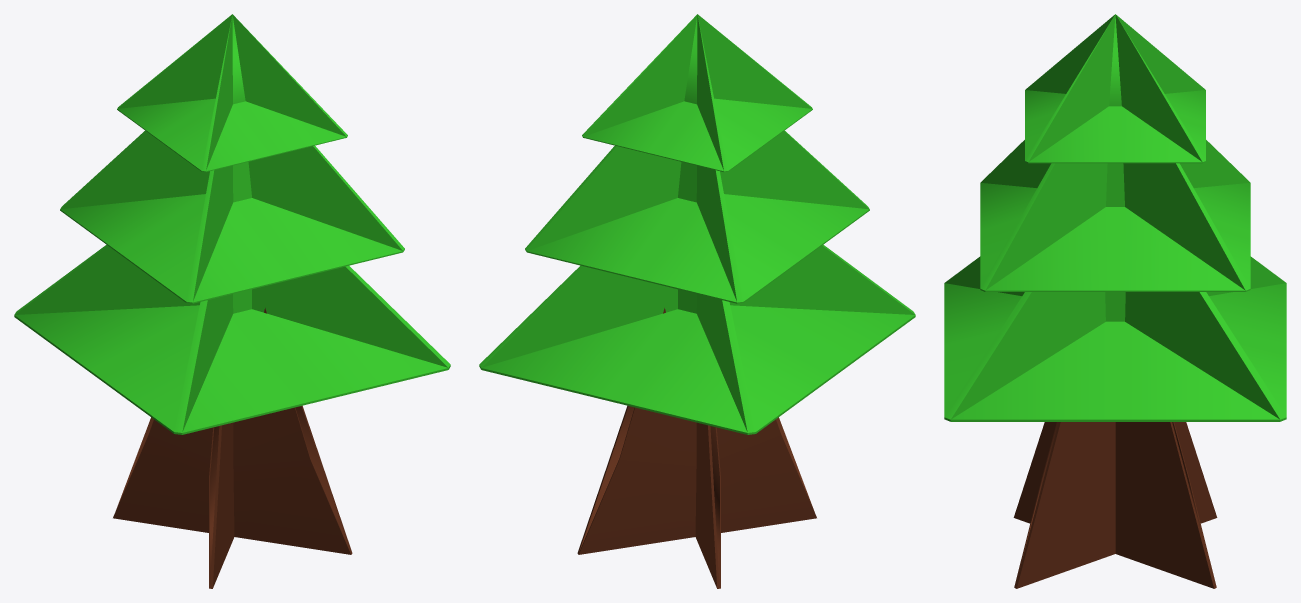
Rendered from Arbre_03.FBX.
The picture shows the model from 3 angles, left to right: view 1: azimuth 30°, elevation 25°; view 2: azimuth 150°, elevation 25°; view 3: azimuth 270°, elevation 25°; orthographic projection. The views are drawn at different scales.
Visible parts, largest first — view 1: Arbre_03; view 2: Arbre_03; view 3: Arbre_03.
Part boxes in pixels (x1=…): Arbre_03: x1=14, y1=14, x2=450, y2=588; Arbre_03: x1=479, y1=14, x2=915, y2=588; Arbre_03: x1=944, y1=14, x2=1286, y2=588.
Size of the model in its own units: 252 by 454 by 261.
